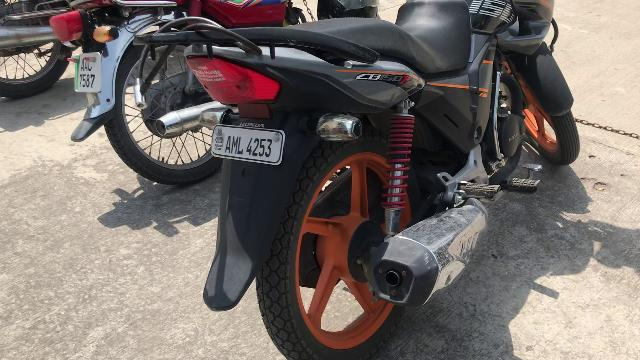plate: (210, 126, 286, 166)
